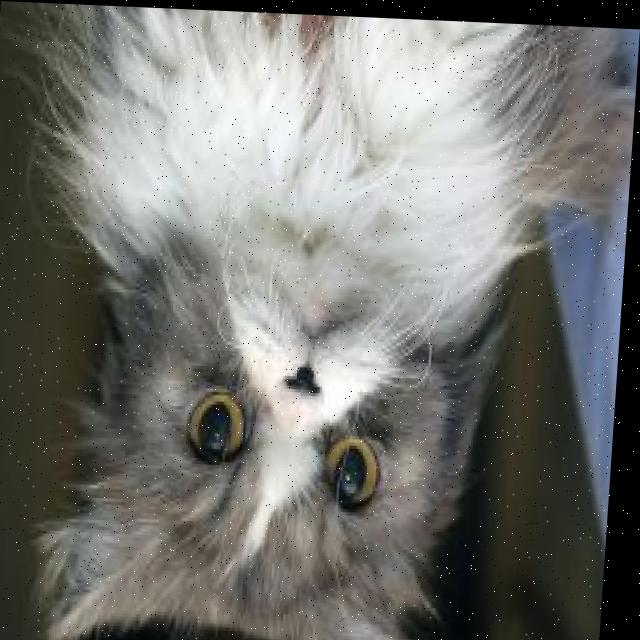Persian: (9, 1, 638, 640)
